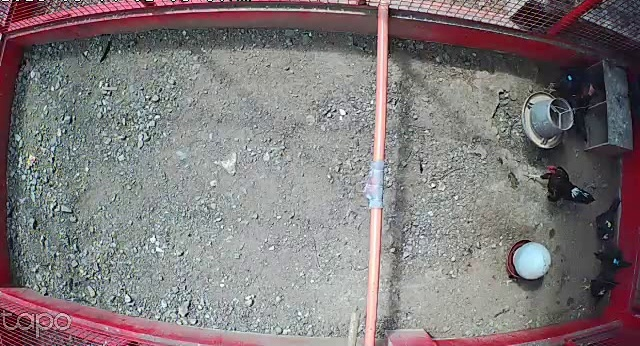Chicken: (578, 270, 622, 308), (591, 241, 633, 274), (595, 195, 623, 244)
Rooster: (522, 163, 595, 206)
Saddle_Color_Blue: (614, 258, 619, 265)
Saddle_Color_Yellow: (606, 222, 613, 228)
